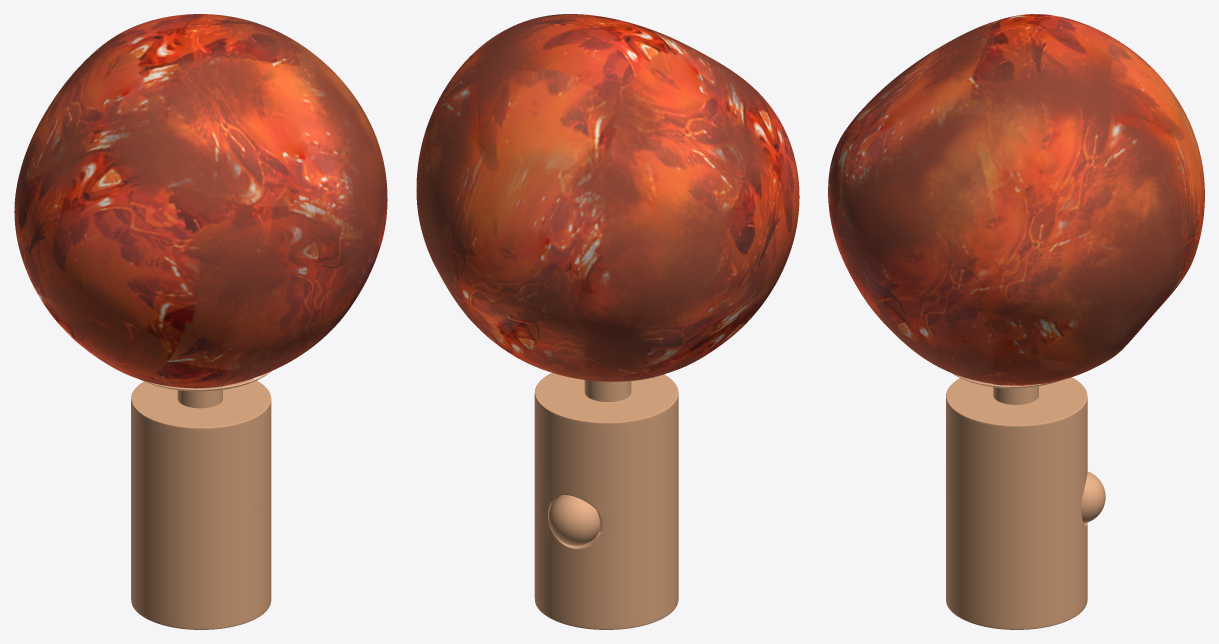
3 renders of one model, left to right at view 1: azimuth 30°, elevation 25°; view 2: azimuth 150°, elevation 25°; view 3: azimuth 270°, elevation 25°, orthographic. The views are drawn at different scales.
Visible parts, largest first — view 1: g Object002, Cylinder004, Cylinder005; view 2: g Object002, Cylinder004, Cylinder005; view 3: g Object002, Cylinder004, Cylinder005.
Boxes of the visible parts, left/top/right/bottom form: g Object002: left=14, top=14, right=387, bottom=388; Cylinder004: left=131, top=378, right=271, bottom=629; Cylinder005: left=177, top=386, right=222, bottom=408; g Object002: left=416, top=14, right=799, bottom=381; Cylinder004: left=534, top=373, right=678, bottom=629; Cylinder005: left=584, top=380, right=631, bottom=401; g Object002: left=828, top=14, right=1204, bottom=385; Cylinder004: left=946, top=377, right=1105, bottom=629; Cylinder005: left=993, top=384, right=1038, bottom=404.
Size of the model in its own units: 25.21 by 42.13 by 25.13.
3 materials, 3 textured.
